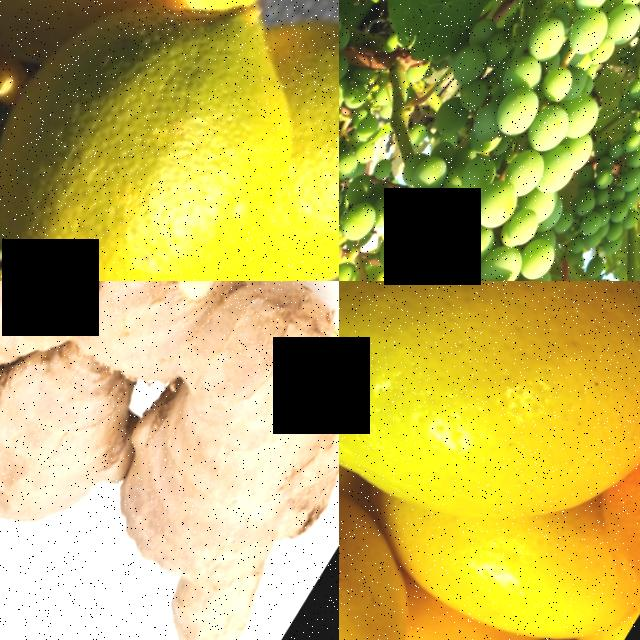ginger: (48, 281, 339, 640), (0, 281, 187, 599)
grapes: (339, 0, 640, 281), (540, 63, 640, 281), (339, 0, 412, 269)
lemon: (0, 0, 339, 281), (339, 281, 640, 591), (339, 439, 471, 640), (251, 14, 339, 281), (359, 579, 580, 640)
